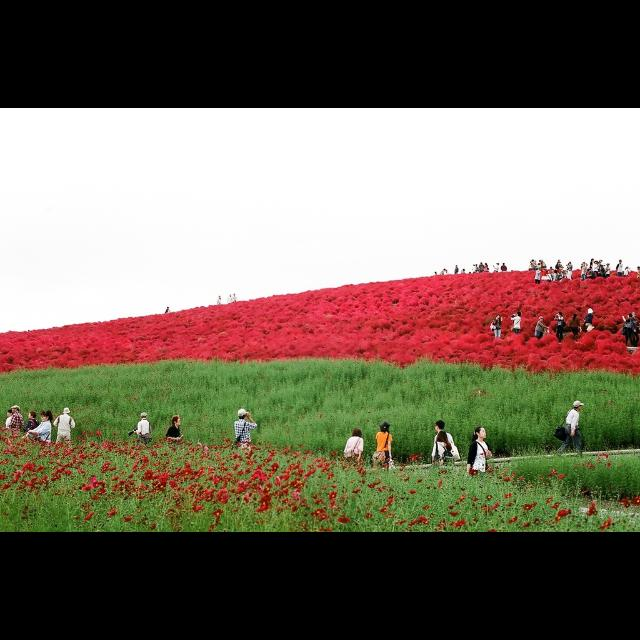Flower: (1, 426, 352, 532), (554, 508, 572, 526), (407, 514, 429, 528), (584, 499, 600, 517), (352, 458, 366, 478), (449, 518, 468, 530), (522, 498, 538, 512), (597, 518, 613, 532), (408, 452, 424, 464), (364, 480, 380, 490), (456, 490, 466, 506), (438, 518, 449, 532), (506, 515, 518, 525), (585, 461, 597, 471), (386, 493, 394, 507), (361, 511, 374, 519), (484, 492, 494, 502), (504, 490, 514, 500), (547, 468, 557, 478), (550, 500, 560, 510), (557, 470, 567, 480), (375, 484, 387, 492), (438, 477, 446, 489), (449, 509, 461, 517), (378, 506, 389, 514), (422, 503, 431, 512), (546, 494, 554, 504), (604, 460, 614, 468), (620, 496, 630, 504), (622, 500, 630, 510), (632, 496, 640, 506), (352, 488, 364, 494), (393, 520, 405, 526), (408, 488, 416, 497), (467, 471, 479, 477), (492, 503, 500, 512), (487, 526, 498, 532), (472, 517, 480, 525), (503, 476, 511, 484), (600, 450, 608, 458), (400, 477, 410, 483), (484, 506, 491, 514), (415, 478, 423, 484), (447, 504, 455, 510), (486, 466, 494, 472), (522, 521, 530, 527), (534, 518, 540, 526), (438, 470, 448, 474), (387, 487, 393, 491), (472, 497, 478, 501)
